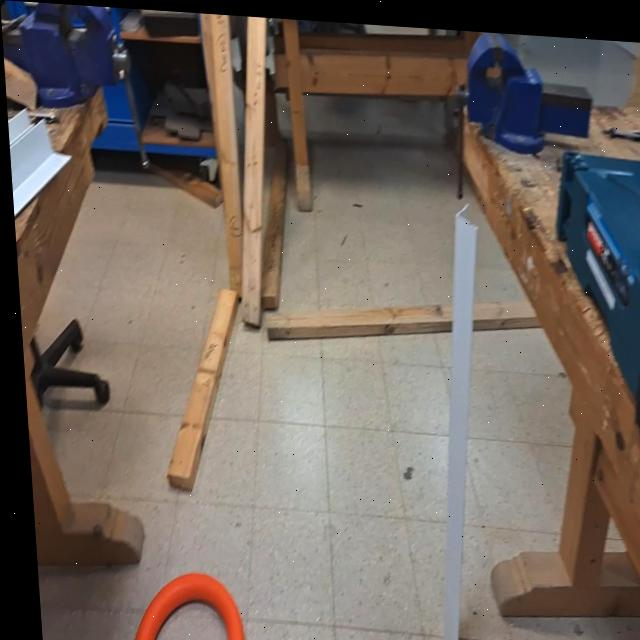note: (120, 567, 240, 640)
